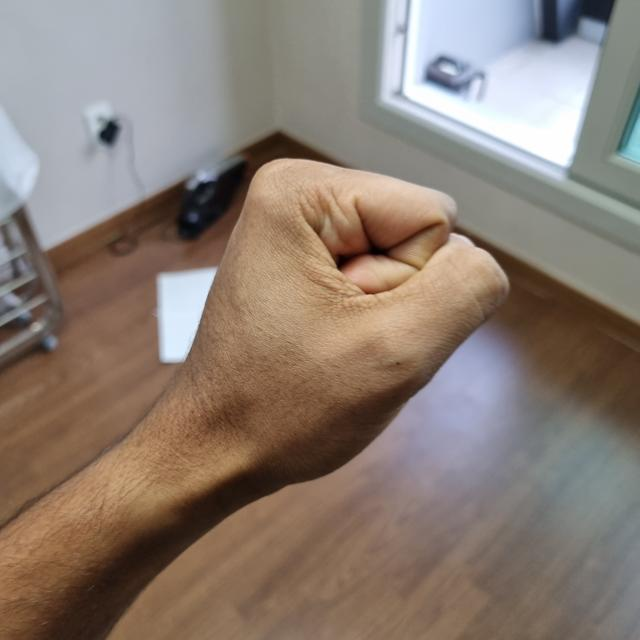Rock: (171, 160, 503, 483)
